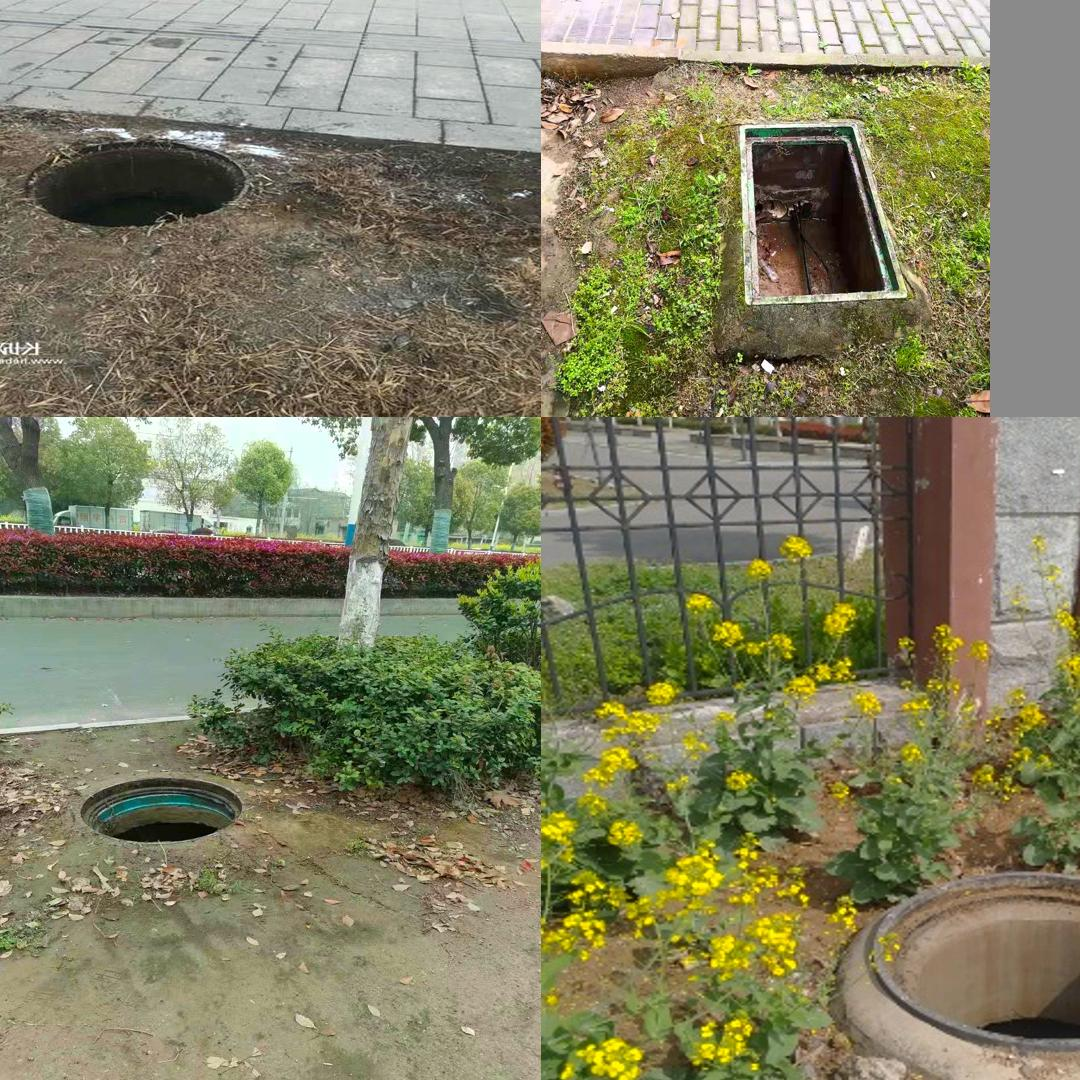lose: (864, 869, 1080, 1056), (2, 127, 288, 242), (736, 118, 904, 308), (68, 770, 251, 846)
